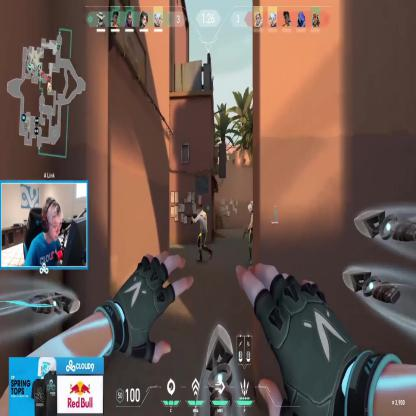enemy: (192, 204, 212, 264), (243, 200, 259, 266)
enemy_head: (247, 203, 252, 213), (198, 205, 203, 213)
